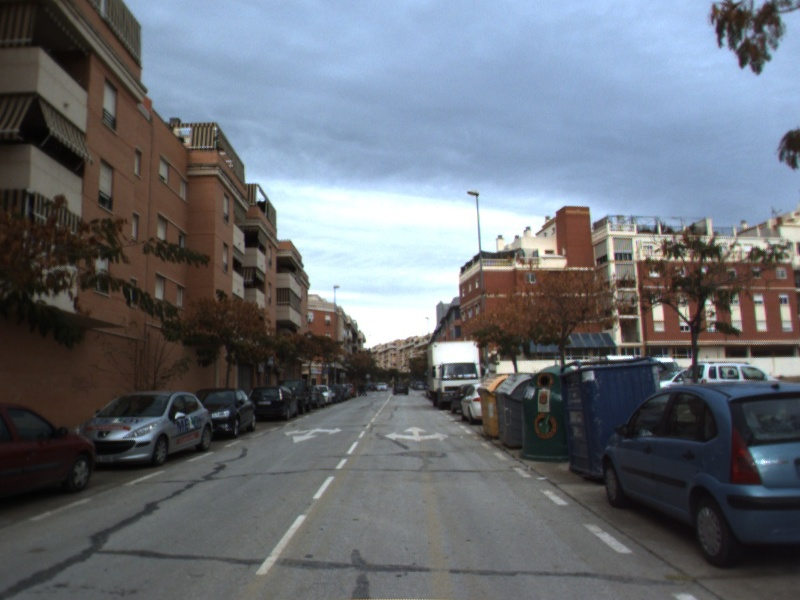STRAIGHT_LEFT_RIGHT: (383, 423, 451, 444)
